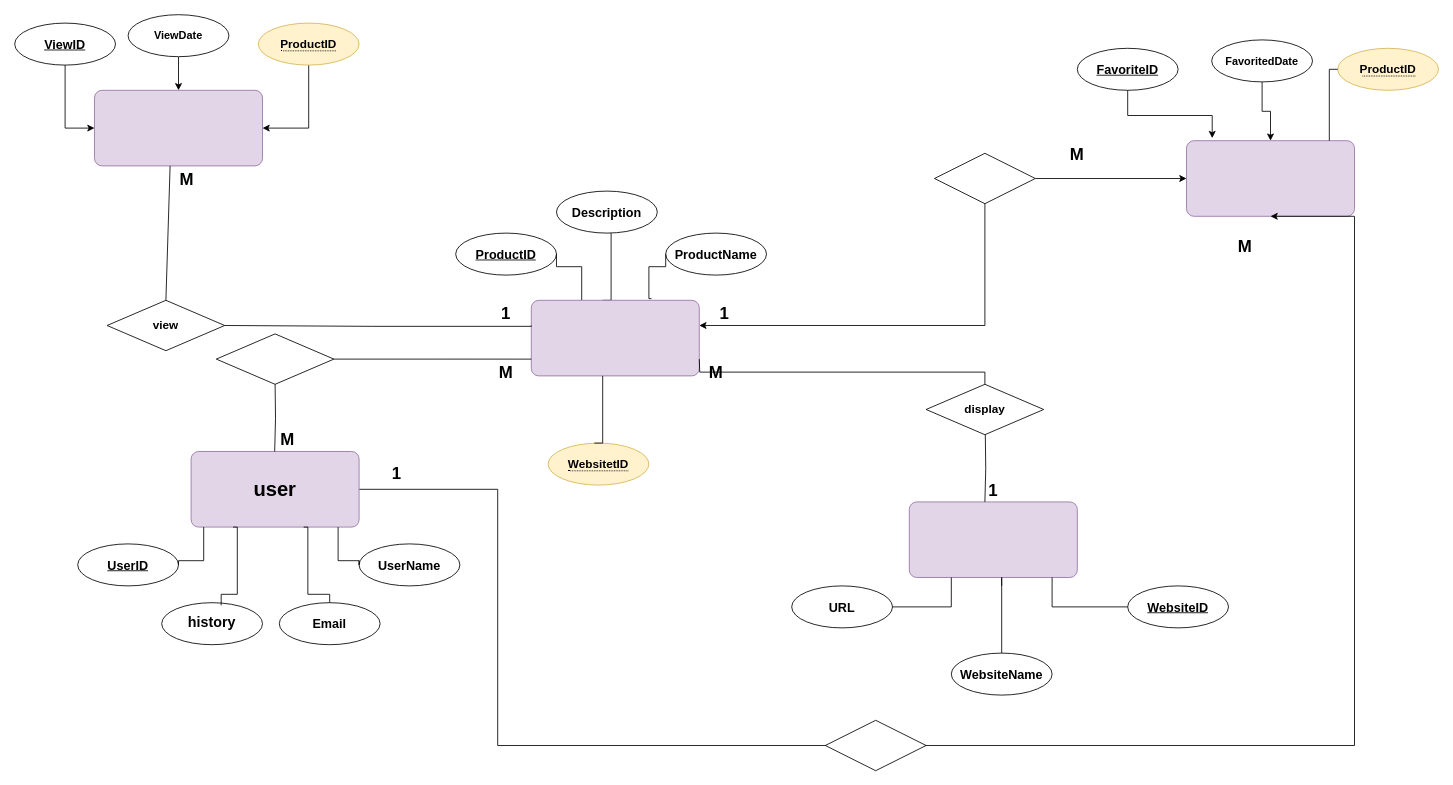
Some shapes in this 1453 by 785 pixel diagram are drawn without their labels. Each missing label, with the centre of its shape:
"Add" belongs at (x=875, y=745).
"added" belongs at (x=984, y=178).
"Favorites" belongs at (x=1270, y=178).
"interact" belongs at (x=274, y=358).
"Latest viewed products" belongs at (x=178, y=127).
"Product" belongs at (x=614, y=337).
"Website" belongs at (x=992, y=539).
